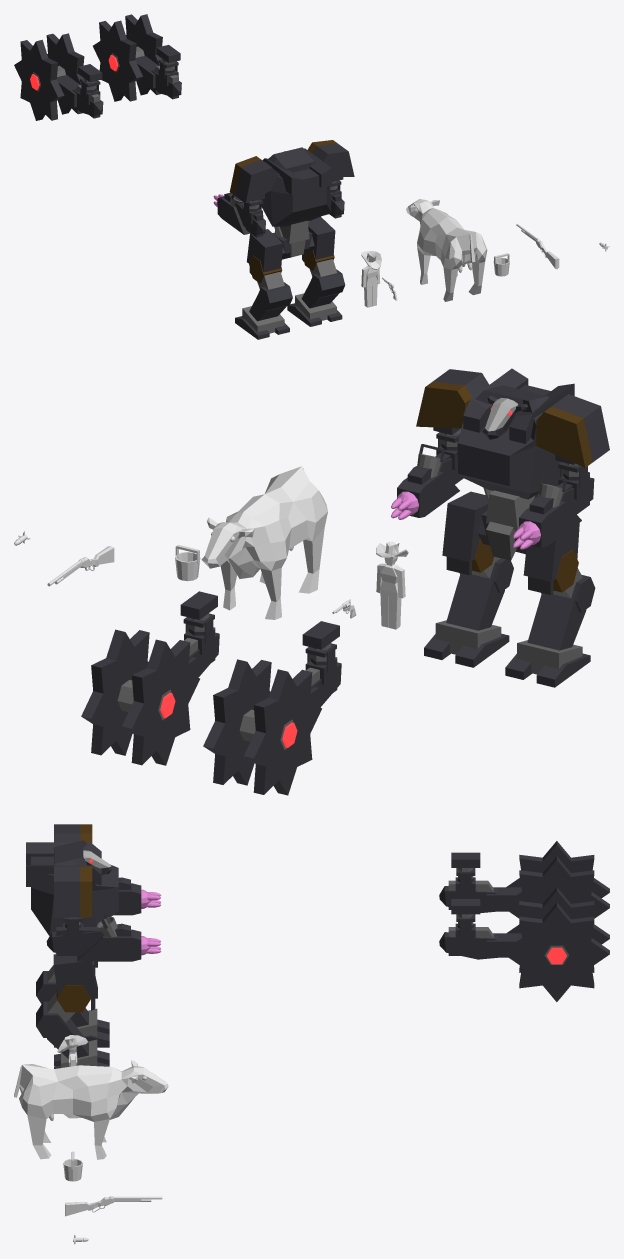
Rendered from Cowtomaton(1).fbx.
The picture shows the model from 3 angles, top to bottom: view 1: azimuth 30°, elevation 25°; view 2: azimuth 150°, elevation 25°; view 3: azimuth 270°, elevation 25°; orthographic projection. The views are drawn at different scales.
Parts seen in each view (by area): view 1: Cowtomaton, Beef Slicer, cow, Uddercannon; view 2: Cowtomaton, Beef Slicer, cow, Uddercannon, bucket, Plane, Legs; view 3: Beef Slicer, Cowtomaton, cow, Uddercannon, Plane.
Boxes of the visible parts, x1,y1,x2,y2 form: Cowtomaton: [229, 140, 354, 339]; Beef Slicer: [14, 14, 181, 120]; cow: [406, 199, 487, 301]; Uddercannon: [213, 176, 344, 237]; Cowtomaton: [416, 368, 609, 687]; Beef Slicer: [81, 591, 341, 795]; cow: [201, 466, 327, 619]; Uddercannon: [391, 427, 594, 549]; bucket: [175, 545, 200, 581]; Plane: [47, 546, 114, 586]; Legs: [380, 589, 401, 629]; Beef Slicer: [439, 841, 609, 1001]; Cowtomaton: [26, 824, 118, 1068]; cow: [14, 1060, 168, 1159]; Uddercannon: [46, 877, 161, 961]; Plane: [65, 1196, 162, 1216].
Bounding box in the file's own units: 1435 × 646 × 1634.
